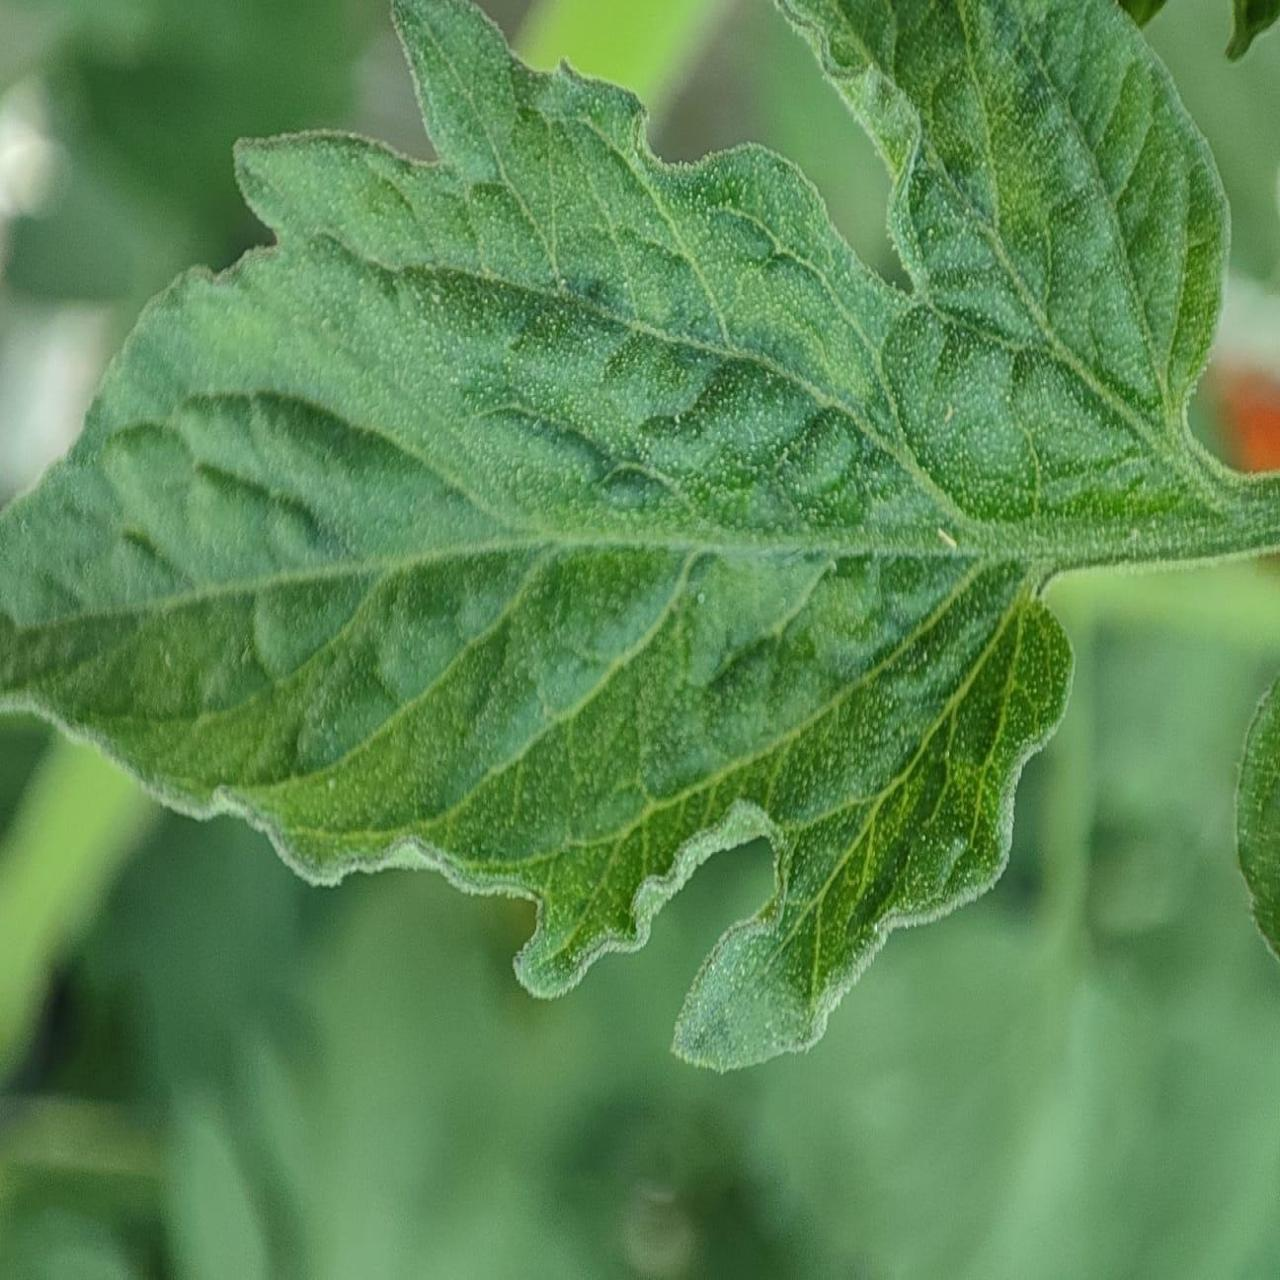T_L_R: (1, 8, 1065, 1058), (789, 1, 1228, 418)
